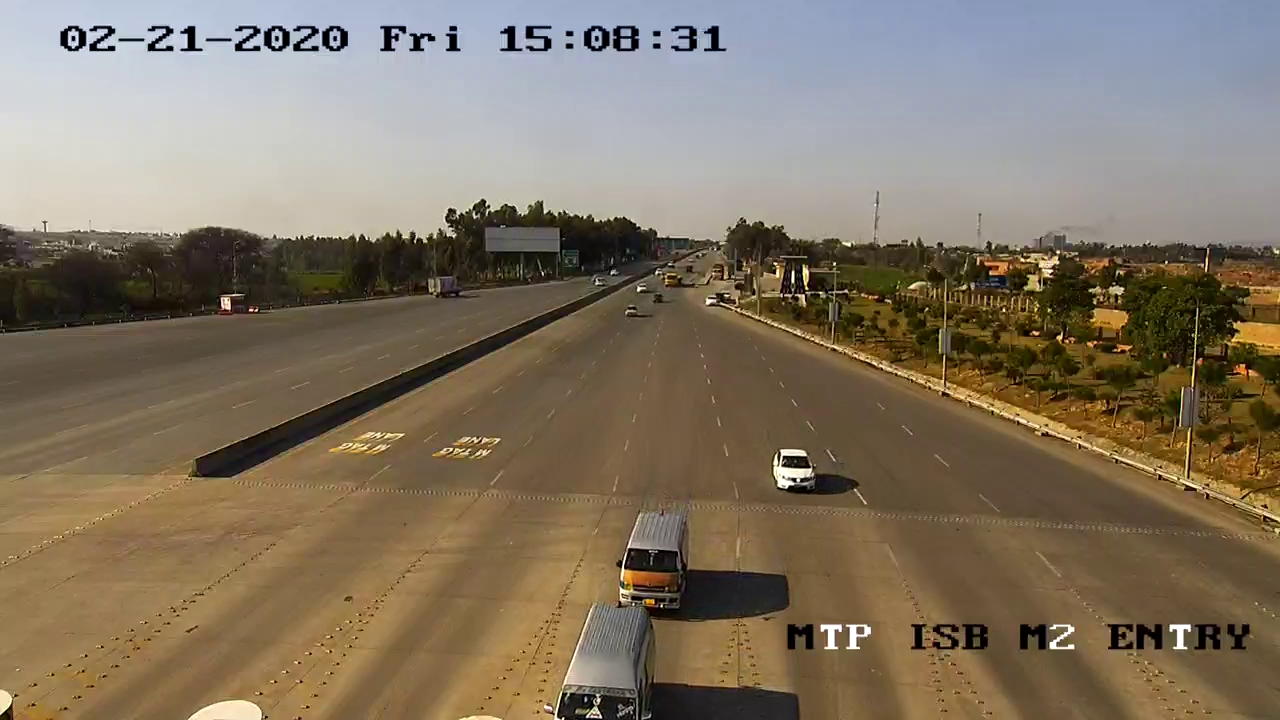f1: (763, 443, 822, 498)
f3: (606, 495, 706, 620)
